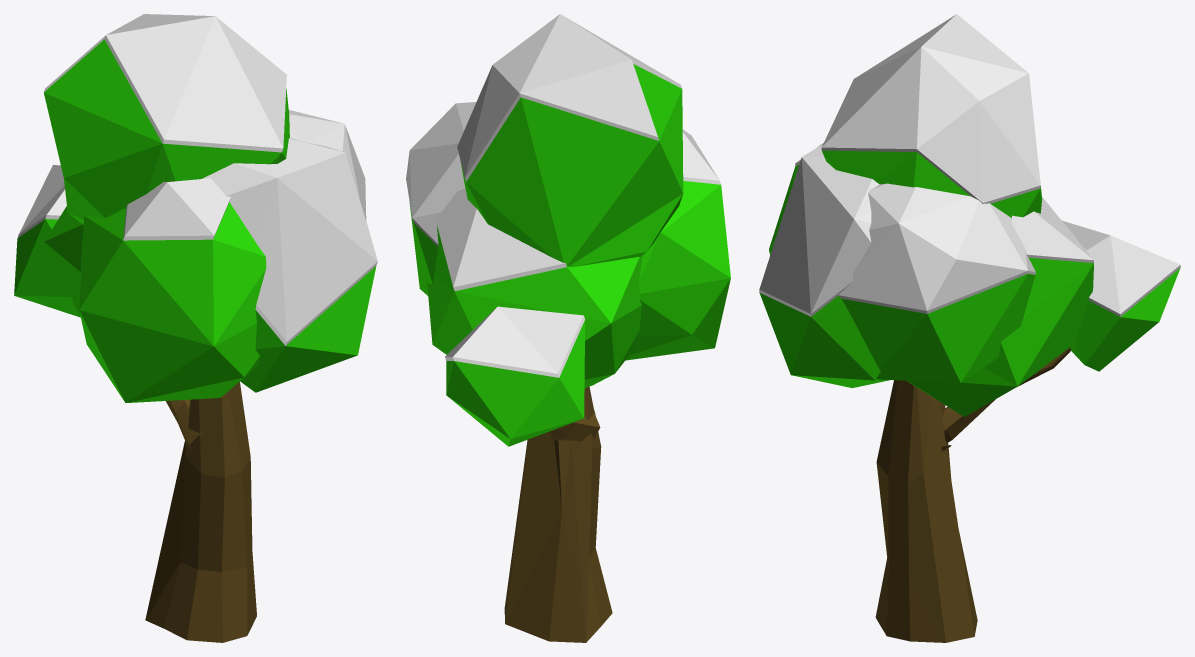
Rendered from Tree#8_Snow.fbx.
The picture shows the model from 3 angles, left to right: view 1: azimuth 30°, elevation 25°; view 2: azimuth 150°, elevation 25°; view 3: azimuth 270°, elevation 25°; orthographic projection. The views are drawn at different scales.
Visible parts, largest first — view 1: Tree#8_Snow; view 2: Tree#8_Snow; view 3: Tree#8_Snow.
Boxes of the visible parts, left/top/right/bottom form: Tree#8_Snow: left=14, top=14, right=377, bottom=642; Tree#8_Snow: left=406, top=14, right=730, bottom=642; Tree#8_Snow: left=759, top=14, right=1180, bottom=642.
Bounding box in the file's own units: 1187 × 2250 × 1473.
